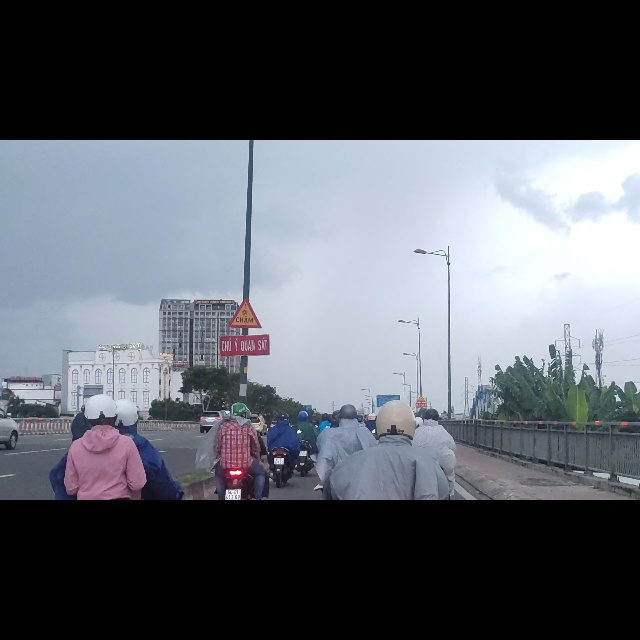bien_chi_dan: (227, 281, 262, 336)
